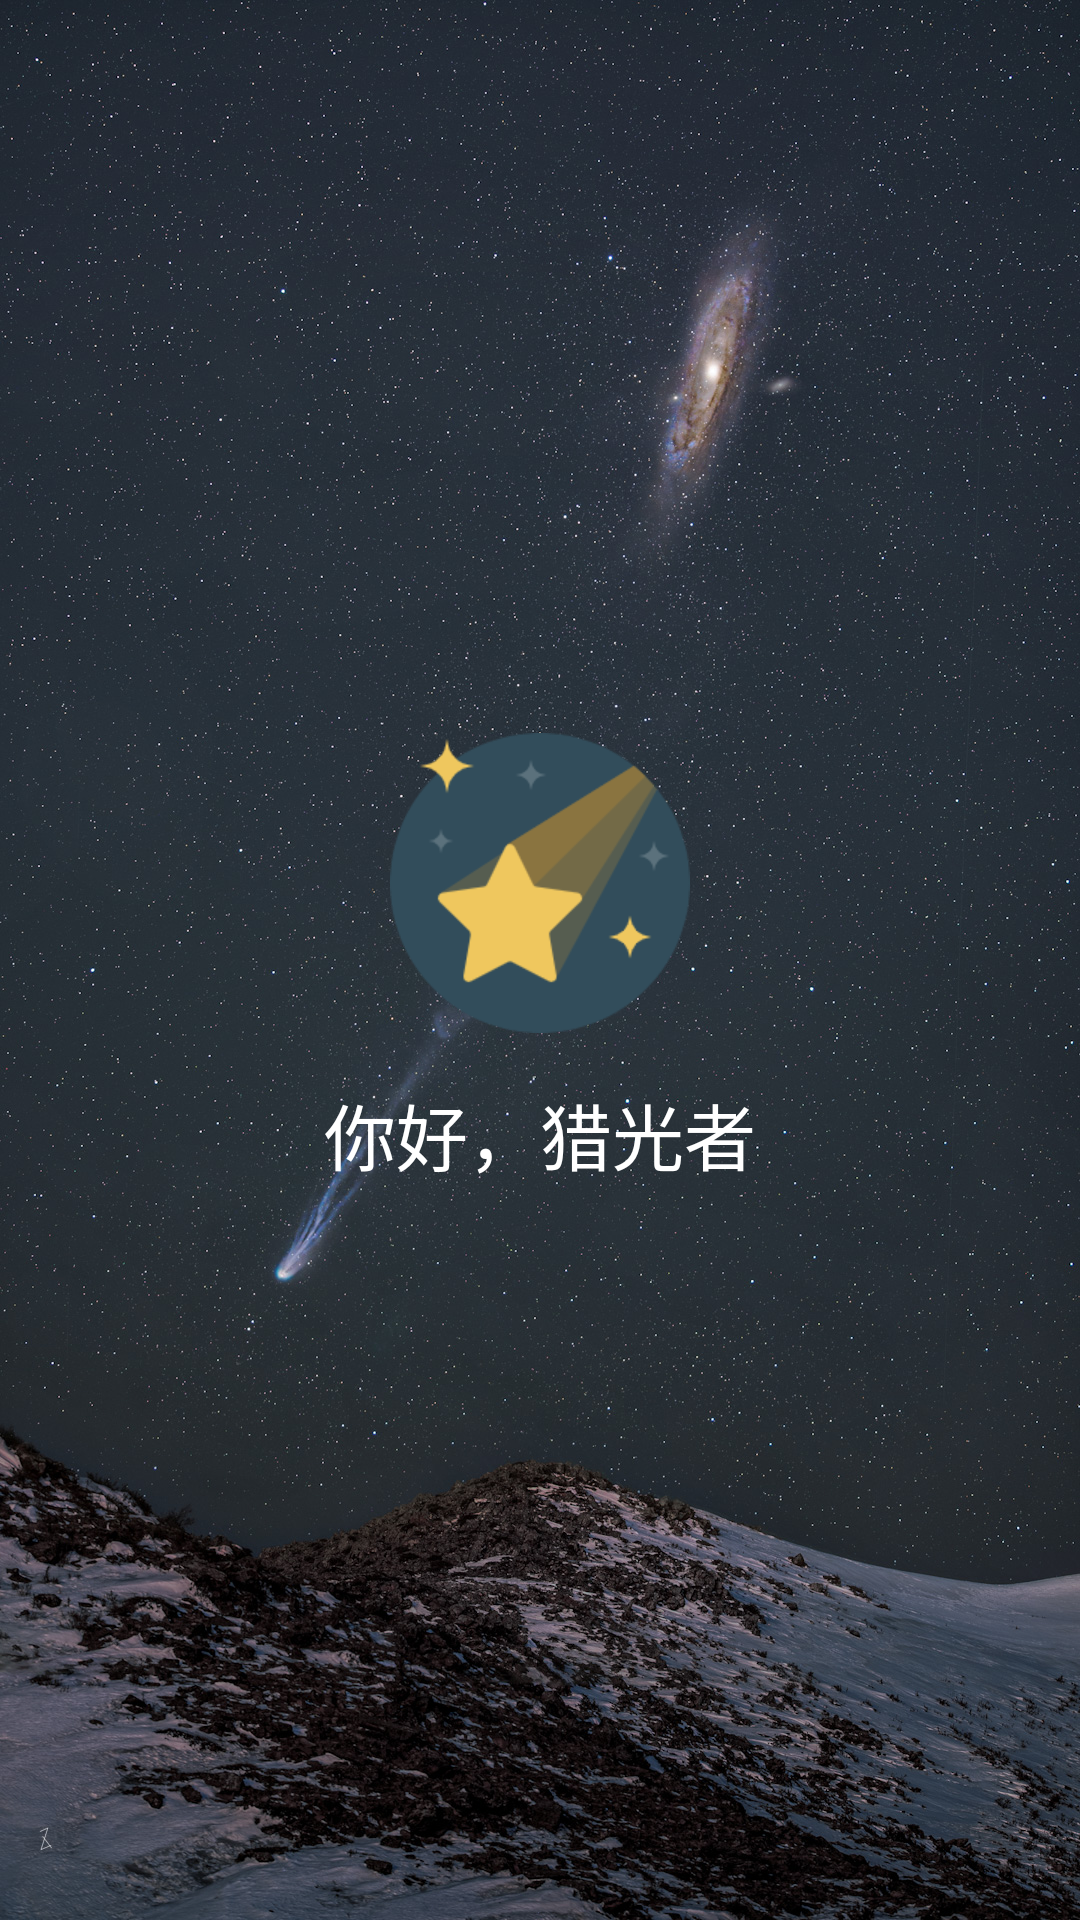

Named icons in this screenshot (1080 x 1920) and their centers, point (x, y):
star: point (540, 883)
